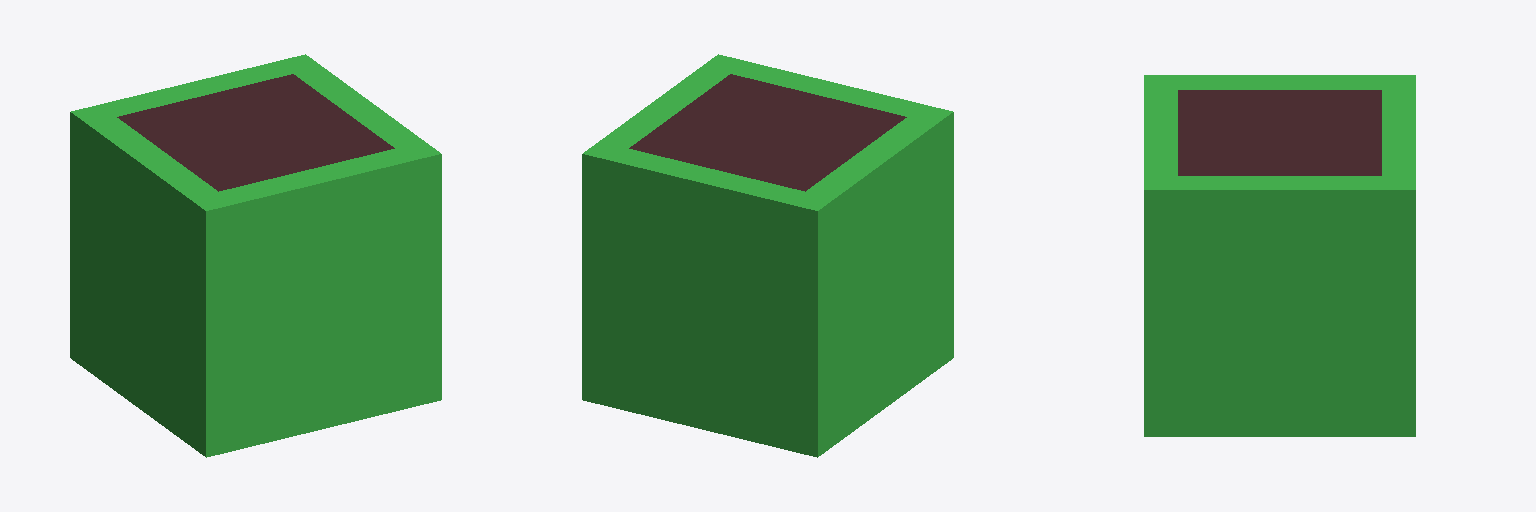
The picture shows the model from 3 angles: view 1: azimuth 30°, elevation 25°; view 2: azimuth 150°, elevation 25°; view 3: azimuth 270°, elevation 25°; orthographic projection.
Parts seen in each view (by area): view 1: filled; view 2: filled; view 3: filled.
Part boxes in pixels (x1,y1,x2,y2): filled: (70,54,441,457); filled: (582,54,953,457); filled: (1144,75,1415,436).
Bounding box in the file's own units: 8 × 8 × 8.
Materials: 1 (1 with a texture image).